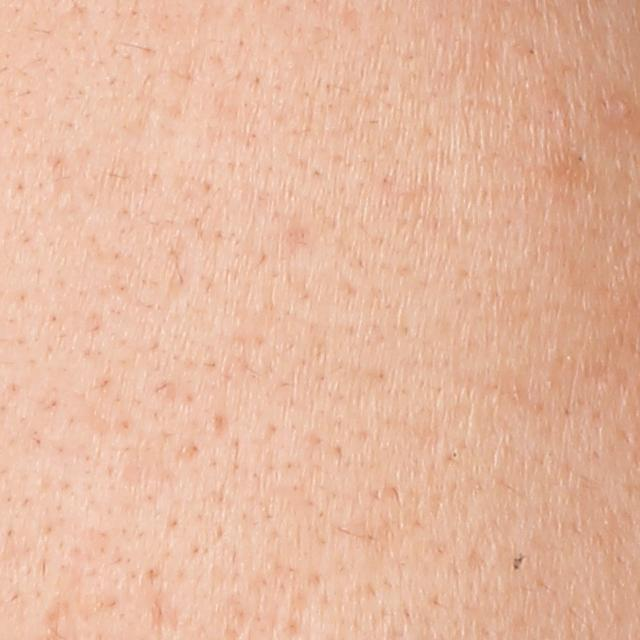atrophic_scar: (40, 151, 78, 215), (148, 590, 184, 640), (213, 412, 232, 439)
